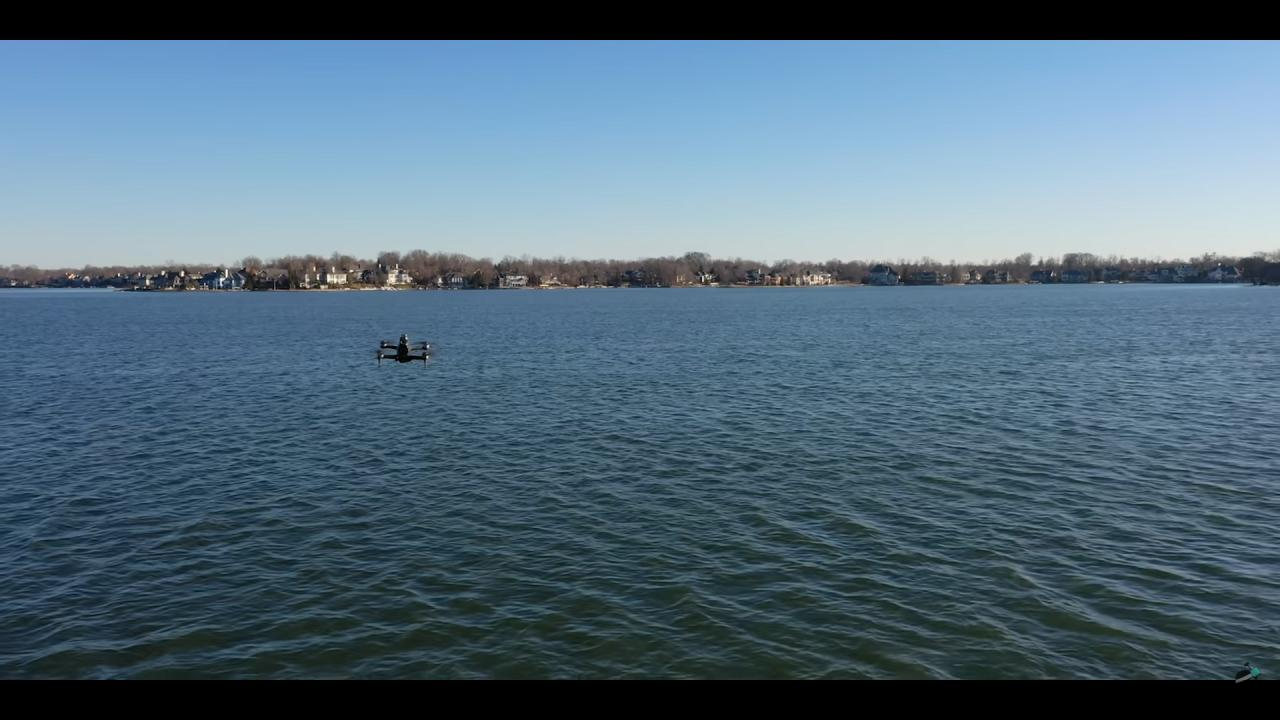Drone: (361, 323, 448, 374)
